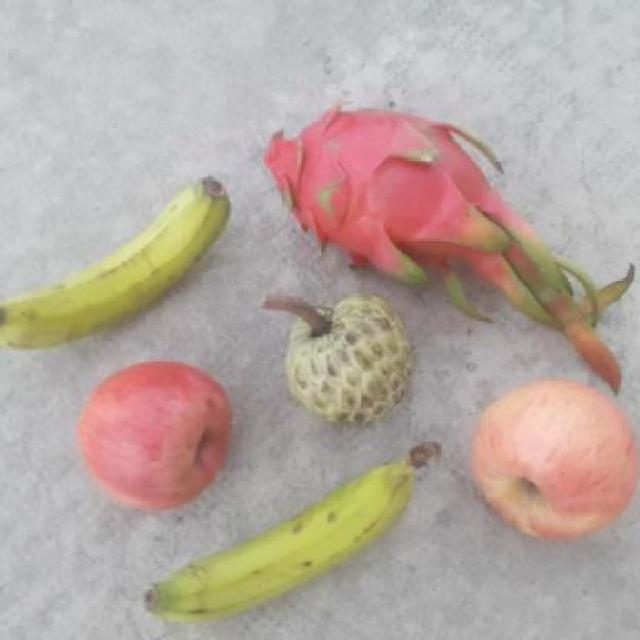apple: (464, 378, 638, 542), (71, 354, 238, 518)
banana: (132, 438, 439, 631), (0, 174, 234, 352)
dragon fruit: (257, 100, 501, 298)
sugar apple: (273, 291, 418, 427)
